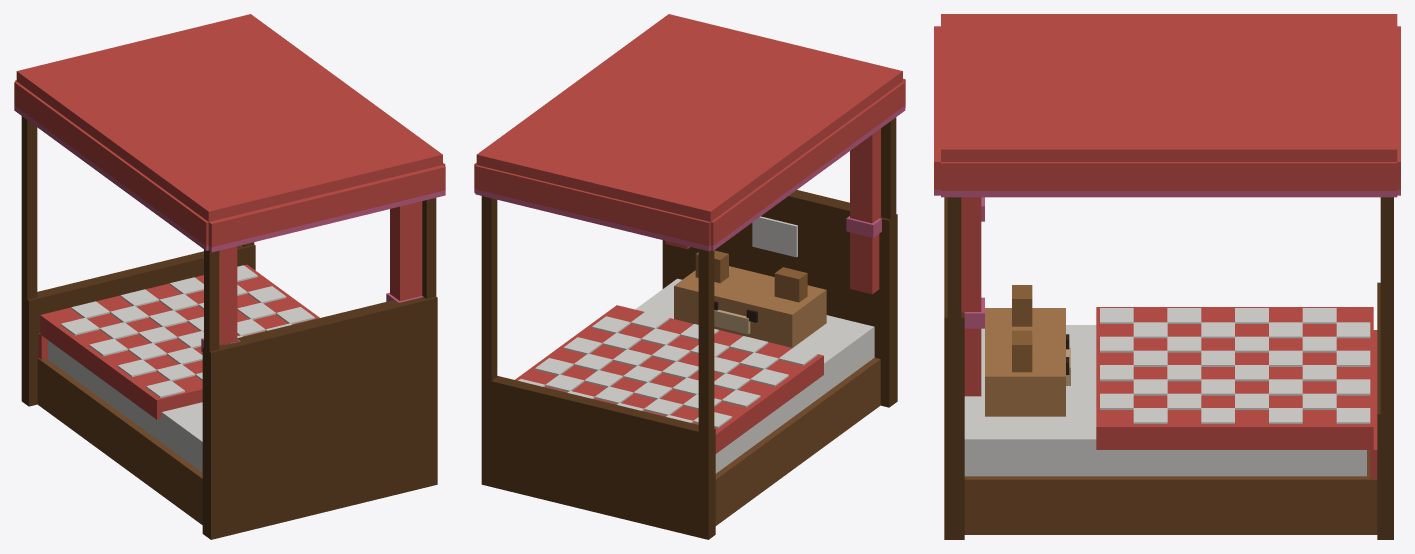
The model's file is ncb-bed-red.glb.
3 views of the same model, side by side, from view 1: azimuth 30°, elevation 25°; view 2: azimuth 150°, elevation 25°; view 3: azimuth 270°, elevation 25° (orthographic). The views are drawn at different scales.
Parts seen in each view (by area): view 1: box-prop; view 2: box-prop; view 3: box-prop.
Boxes of the visible parts, x1=… form: box-prop: x1=14, y1=14, x2=445, y2=539; box-prop: x1=474, y1=14, x2=905, y2=539; box-prop: x1=934, y1=14, x2=1400, y2=539.
Size of the model in its own units: 1.94 by 2.56 by 2.76.
